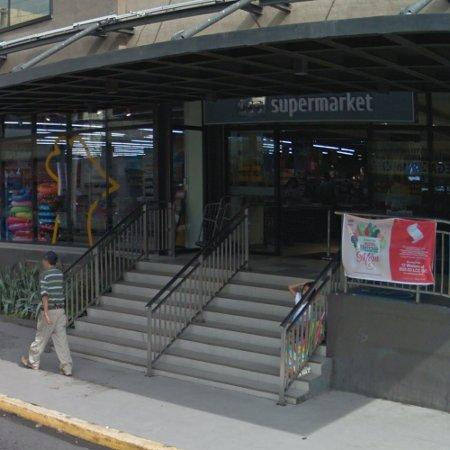stairs: (154, 272, 302, 400), (69, 263, 180, 369), (291, 347, 331, 402)
